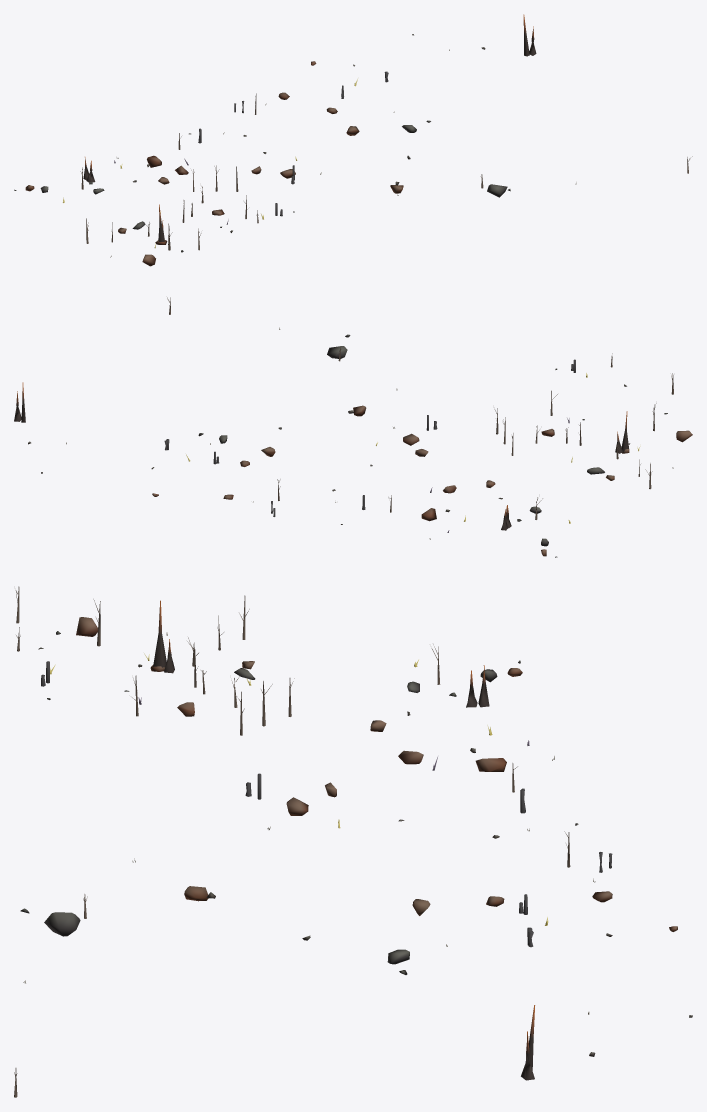
Rendered from ash_land_scatter_c21_27_lod1.glb.
3 renders of one model, top to bottom at view 1: azimuth 30°, elevation 25°; view 2: azimuth 150°, elevation 25°; view 3: azimuth 270°, elevation 25°, orthographic. The views are drawn at different scales.
Parts seen in each view (by area): view 1: ash_land_scatter_c21_27_lod1; view 2: ash_land_scatter_c21_27_lod1; view 3: ash_land_scatter_c21_27_lod1.
Part boxes in pixels (bbox=[...]): ash_land_scatter_c21_27_lod1: bbox=[14, 14, 692, 266]; ash_land_scatter_c21_27_lod1: bbox=[14, 297, 692, 557]; ash_land_scatter_c21_27_lod1: bbox=[14, 586, 692, 1097].
Bounding box in the file's own units: 182 × 22.46 × 118.
